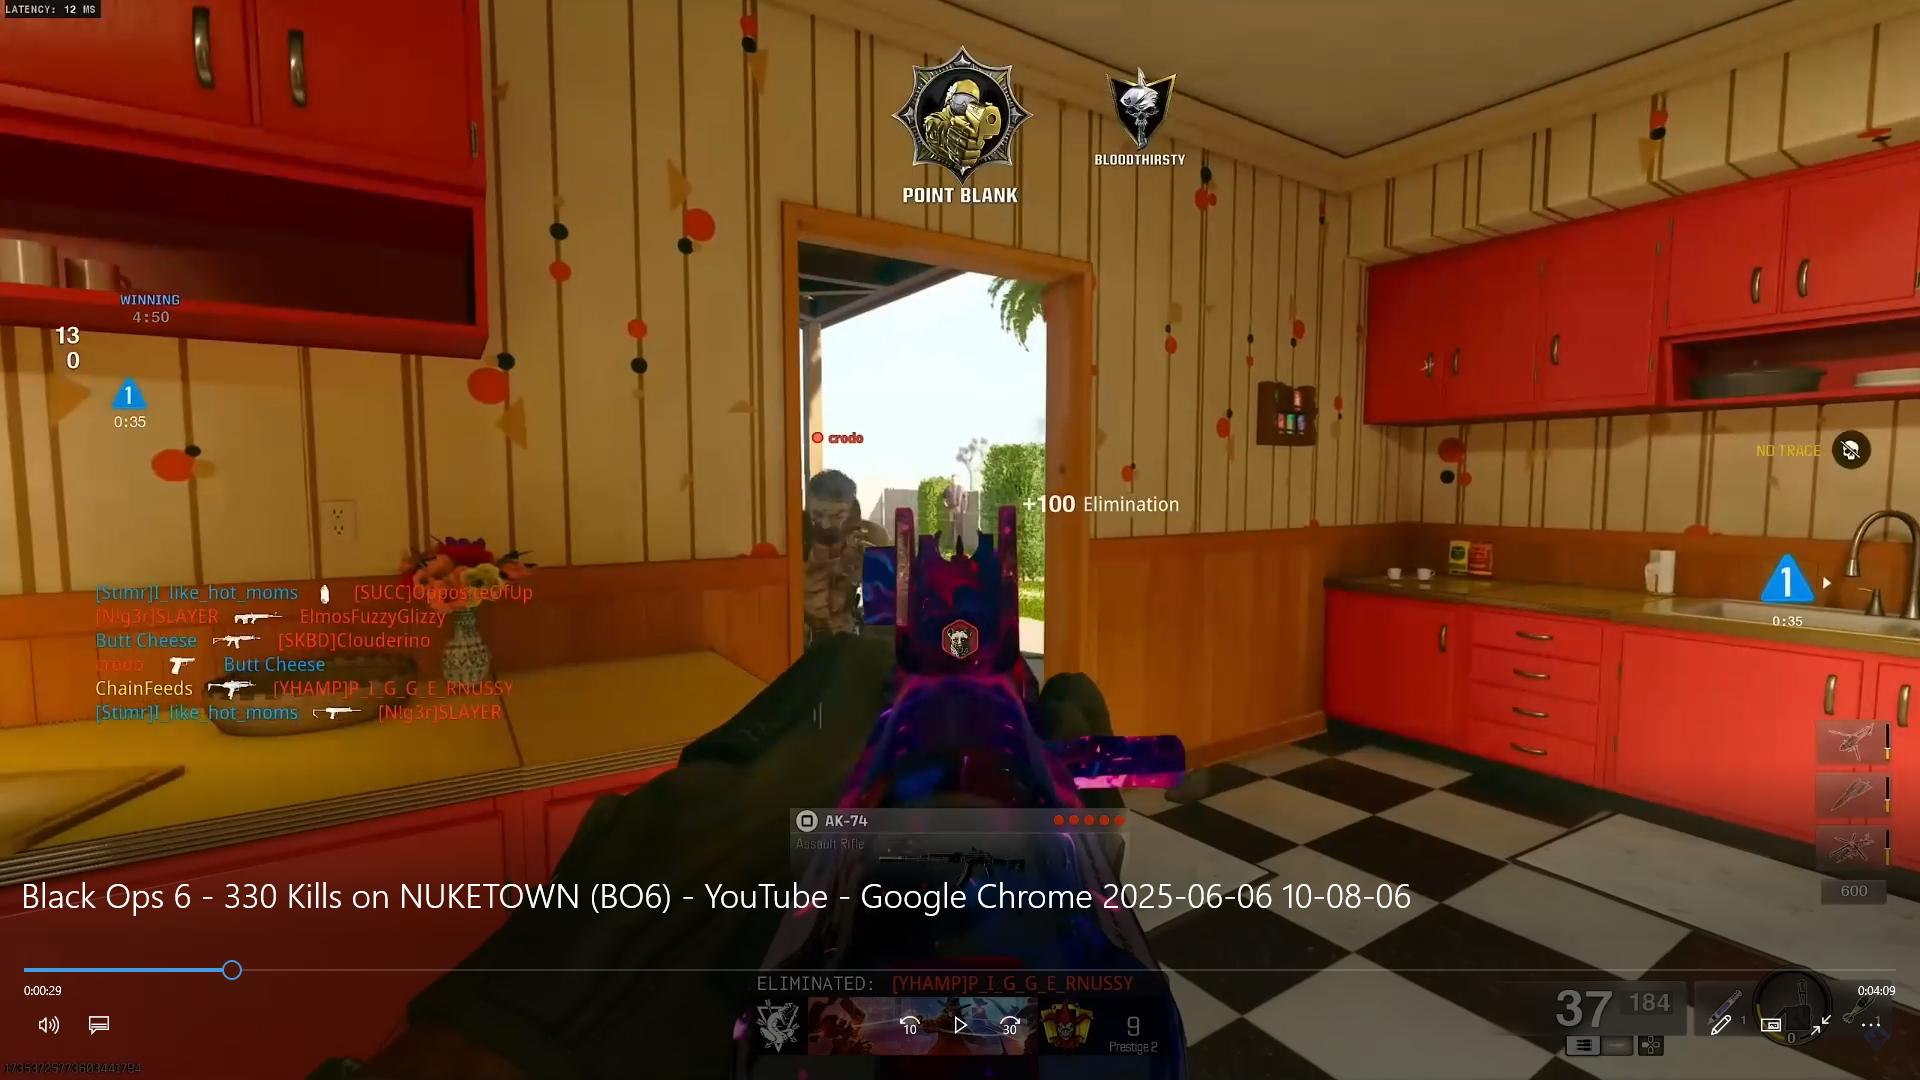Enemy: (796, 414, 885, 545)
